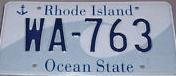placa de veiculo: (5, 1, 166, 74)
